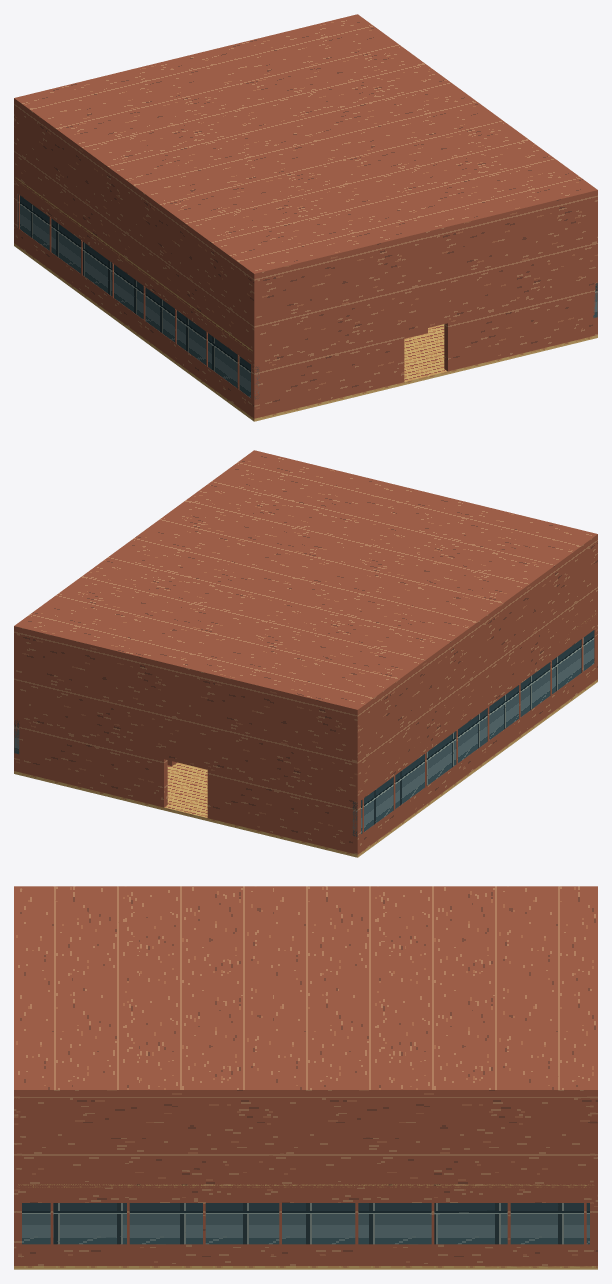
Rendered from ss-grand-staircase.glb.
3 renders of one model, top to bottom at view 1: azimuth 30°, elevation 25°; view 2: azimuth 150°, elevation 25°; view 3: azimuth 270°, elevation 25°, orthographic. The views are drawn at different scales.
Parts seen in each view (by area): view 1: shell.007, floor_ss-grand-staircase, fittings.007; view 2: shell.007, floor_ss-grand-staircase; view 3: shell.007, floor_ss-grand-staircase, fittings.007.
Boxes of the visible parts, left/top/right/bottom form: shell.007: left=14, top=14, right=597, bottom=418; floor_ss-grand-staircase: left=14, top=243, right=597, bottom=421; fittings.007: left=15, top=177, right=427, bottom=352; shell.007: left=14, top=450, right=597, bottom=854; floor_ss-grand-staircase: left=14, top=679, right=597, bottom=857; shell.007: left=14, top=886, right=597, bottom=1265; floor_ss-grand-staircase: left=14, top=1266, right=597, bottom=1269; fittings.007: left=17, top=1184, right=594, bottom=1187.
Bounding box in the file's own units: 19.04 × 7.81 × 23.
6 materials, 6 textured.
